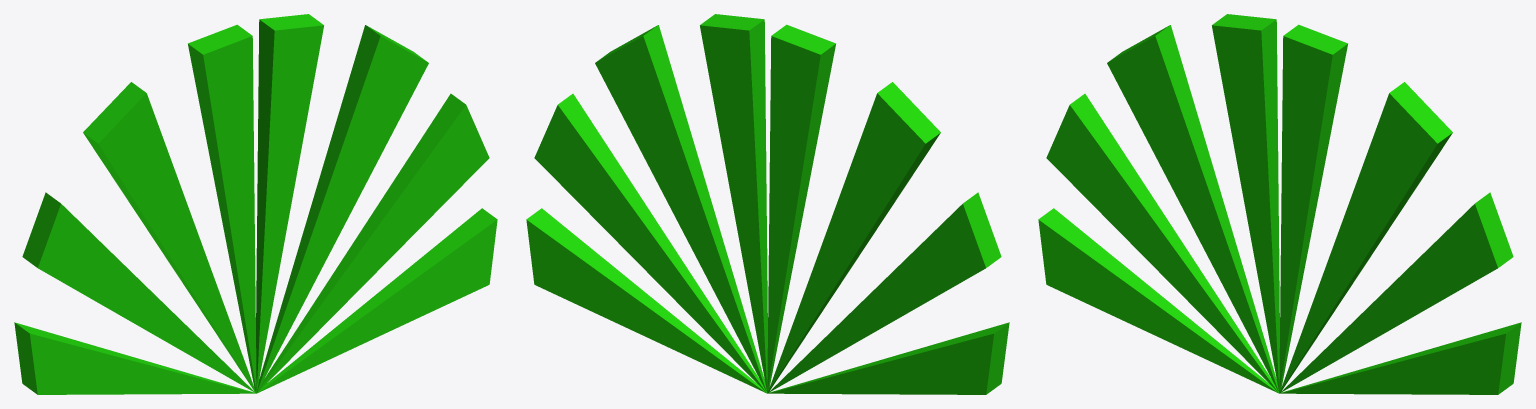
The model's file is Vegetation_Modular_Tree_Frond_Palm_Pine_Ancient_01.FBX.
3 renders of one model, left to right at view 1: azimuth 30°, elevation 25°; view 2: azimuth 150°, elevation 25°; view 3: azimuth 330°, elevation 25°, orthographic.
Parts seen in each view (by area): view 1: Vegetation_Modular_Tree_Frond_Palm_Pine_Ancient_01; view 2: Vegetation_Modular_Tree_Frond_Palm_Pine_Ancient_01; view 3: Vegetation_Modular_Tree_Frond_Palm_Pine_Ancient_01.
Part boxes in pixels (x1,y1,x2,y2): Vegetation_Modular_Tree_Frond_Palm_Pine_Ancient_01: [14, 14, 497, 394]; Vegetation_Modular_Tree_Frond_Palm_Pine_Ancient_01: [526, 14, 1009, 394]; Vegetation_Modular_Tree_Frond_Palm_Pine_Ancient_01: [1038, 14, 1521, 394].
Size of the model in its own units: 1084 by 810 by 62.03.
